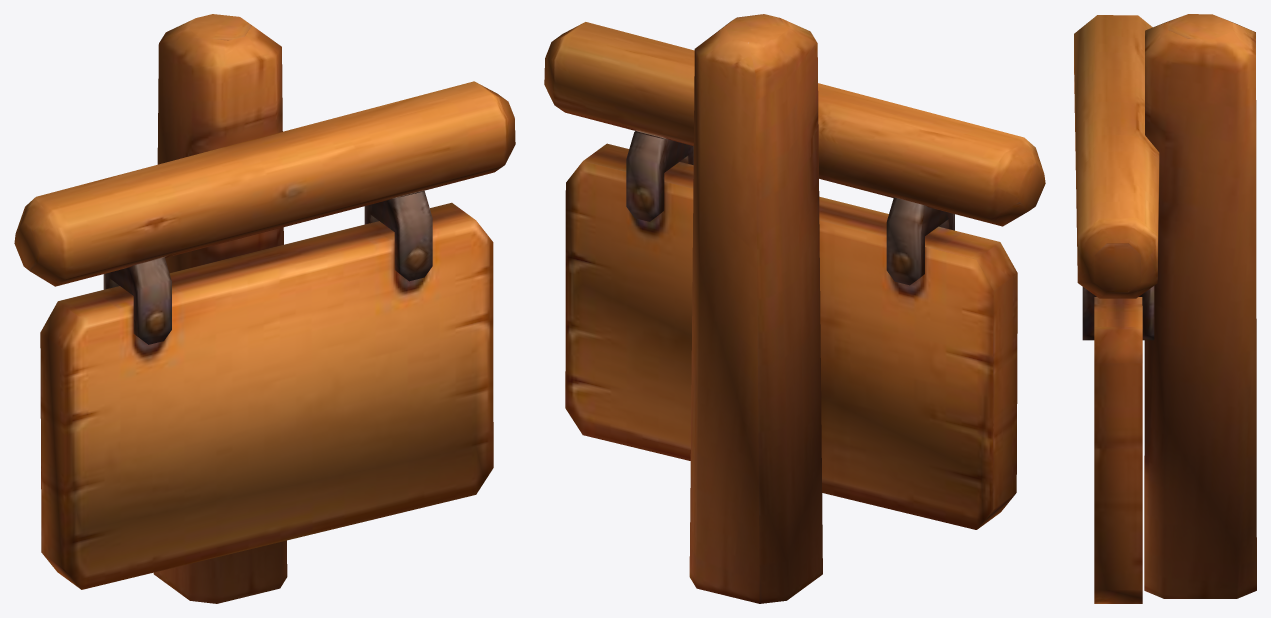
File: owner.gltf
3 renders of one model, left to right at view 1: azimuth 30°, elevation 25°; view 2: azimuth 150°, elevation 25°; view 3: azimuth 270°, elevation 25°, orthographic.
Parts seen in each view (by area): view 1: owner; view 2: owner; view 3: owner.
Boxes of the visible parts, x1,y1,x2,y2 form: owner: (14,14,515,603); owner: (544,14,1045,603); owner: (1074,14,1256,603).
Size of what is drawn, in the model's own units: 1.72 by 1.88 by 0.5674.
Materials: 1 (1 with a texture image).
